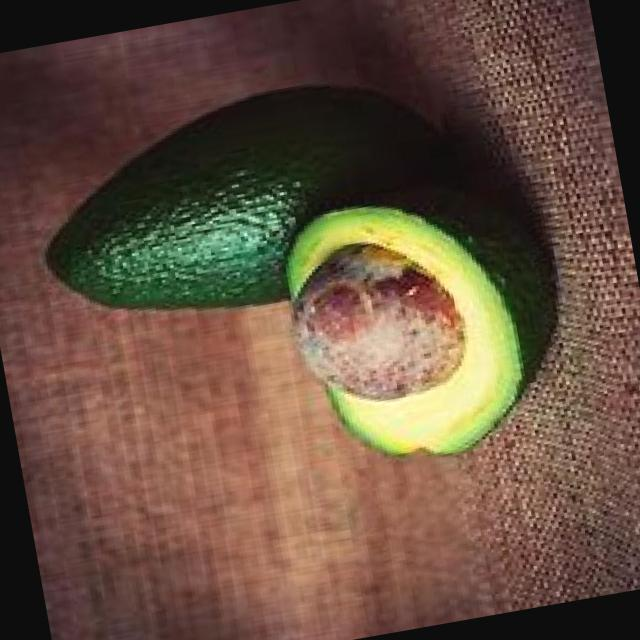avocado: (29, 61, 447, 328), (266, 169, 552, 487)
